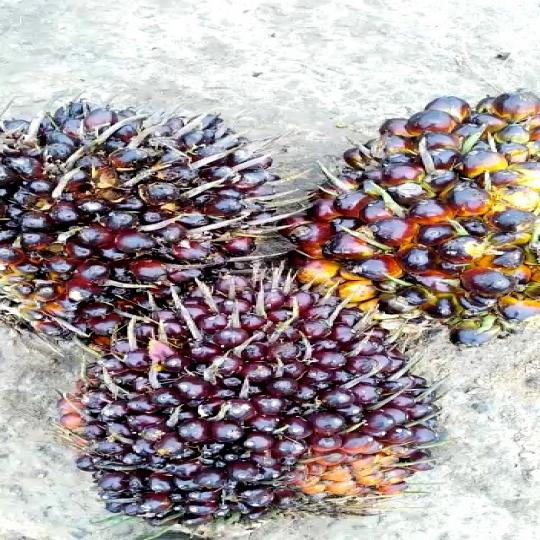kurang masak: (70, 272, 487, 518), (0, 83, 287, 320), (298, 83, 540, 335)
